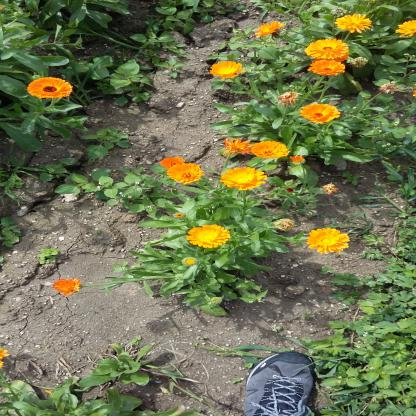marigold: (167, 148, 190, 196), (229, 65, 254, 107), (226, 187, 248, 228), (78, 344, 98, 389), (38, 68, 58, 108), (103, 76, 122, 116), (164, 214, 182, 247), (141, 129, 158, 163), (14, 46, 31, 80), (61, 173, 77, 208), (61, 72, 76, 106), (22, 133, 36, 160)
